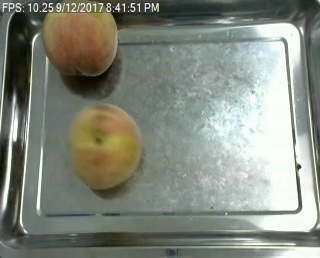Peach: (67, 102, 142, 191), (41, 1, 119, 78)
